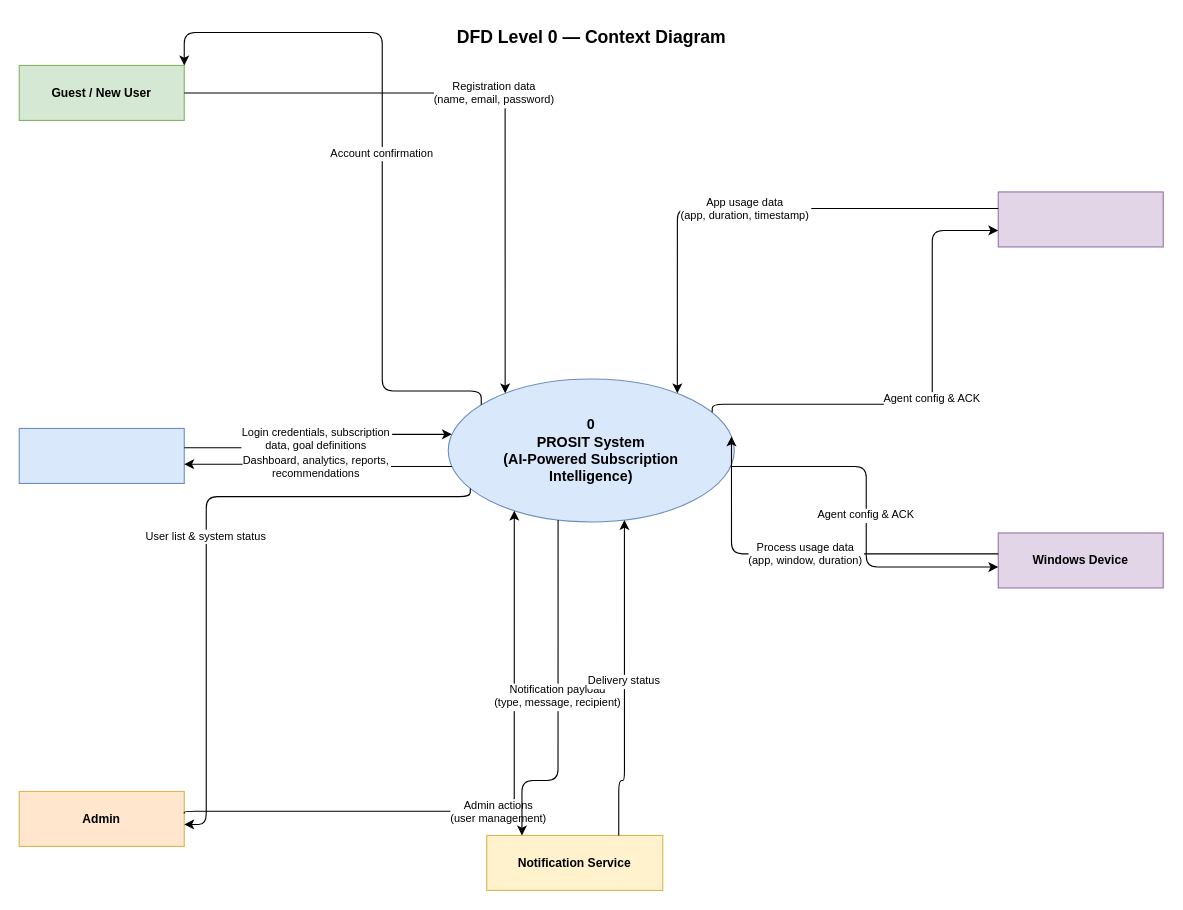
The diagram is 1183 pixels wide and 910 high, and some of its shapes have lost their labels. Each missing label, with the centre of its shape:
"Android Device" belongs at (x=1080, y=219).
"Registered User" belongs at (x=101, y=455).
